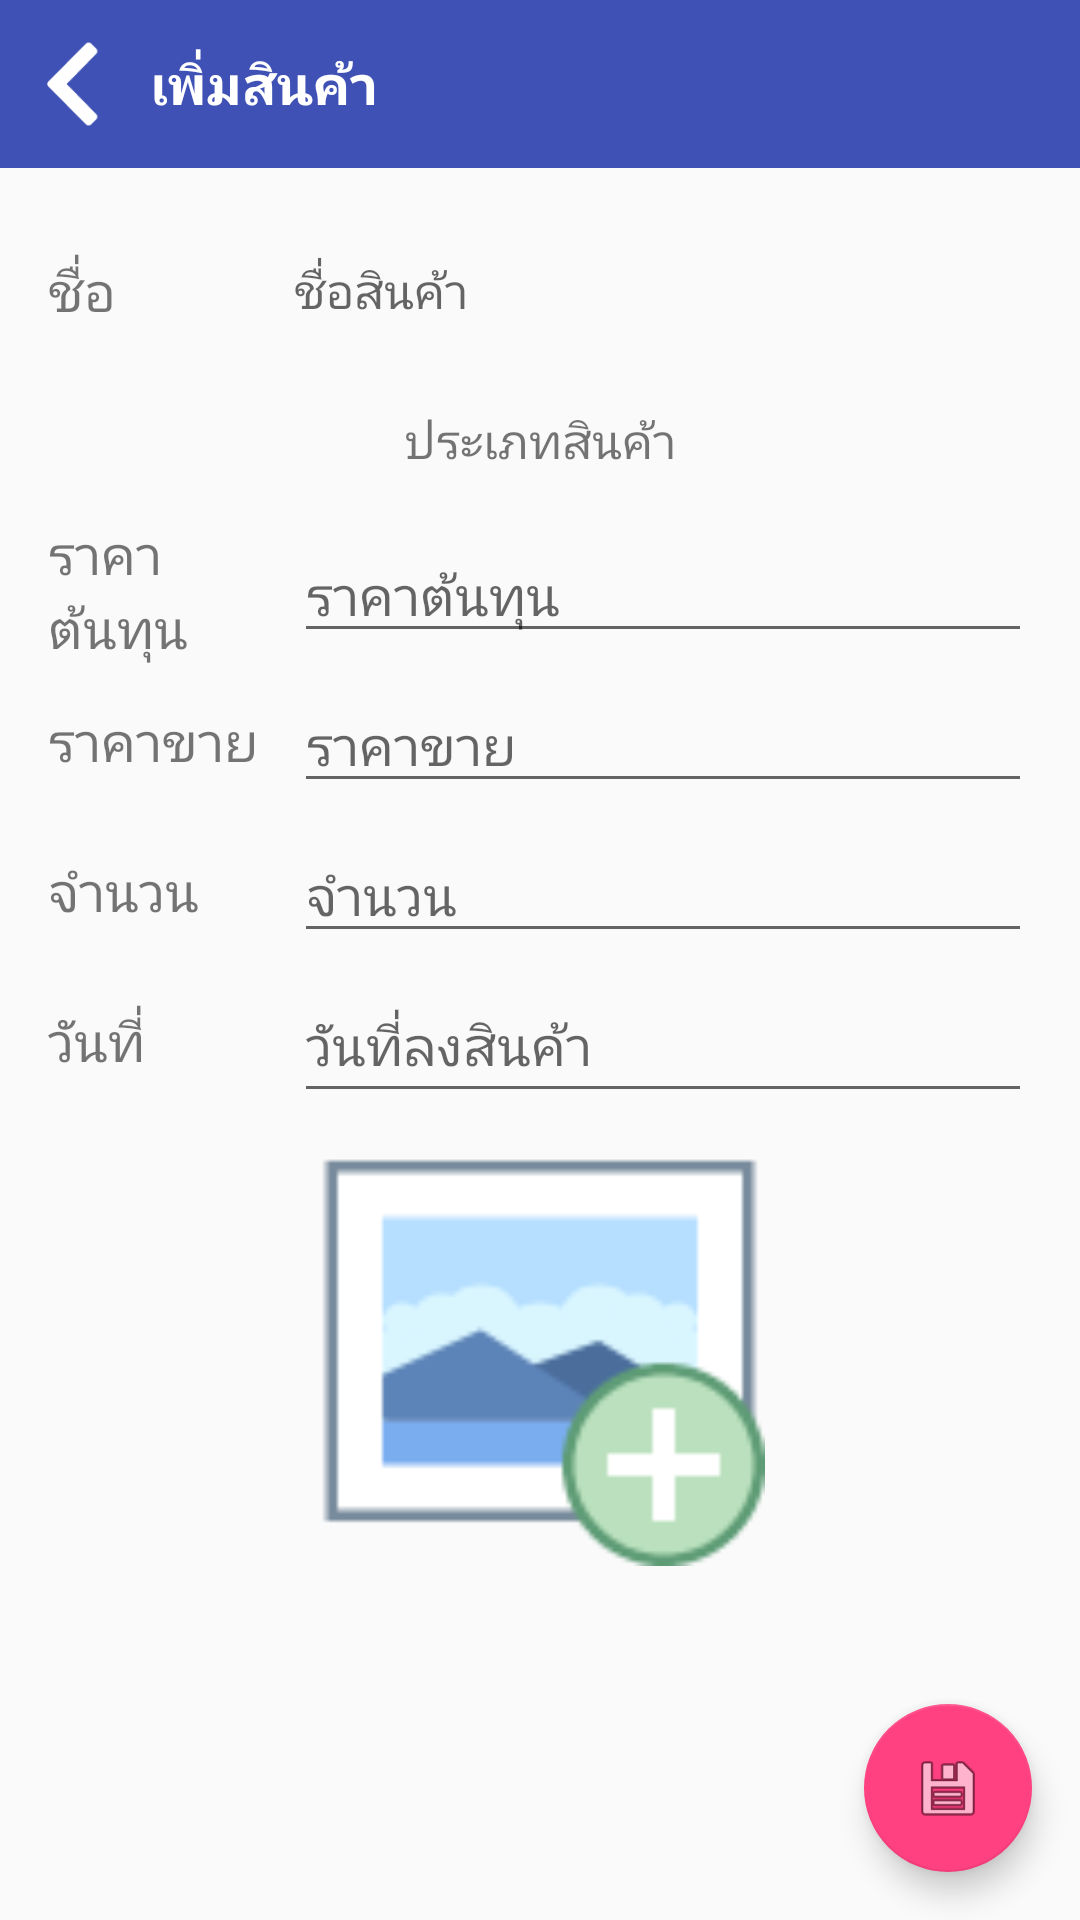

Named icons in this screenshot (1080px x 1920px) and their centers, (x,y):
back: (72,84)
save: (948,1788)
